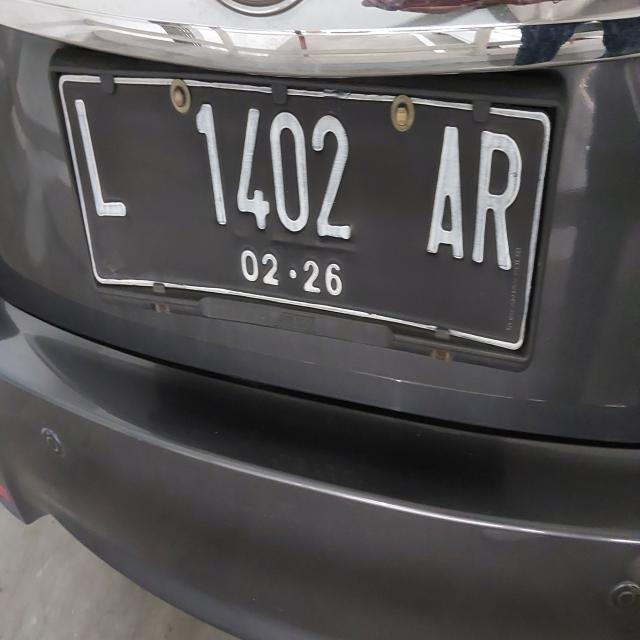0: (260, 100, 316, 252)
1: (184, 89, 238, 253)
2: (298, 94, 366, 259)
4: (226, 93, 276, 247)
A: (420, 102, 472, 283)
L: (66, 84, 140, 241)
R: (467, 104, 529, 297)
